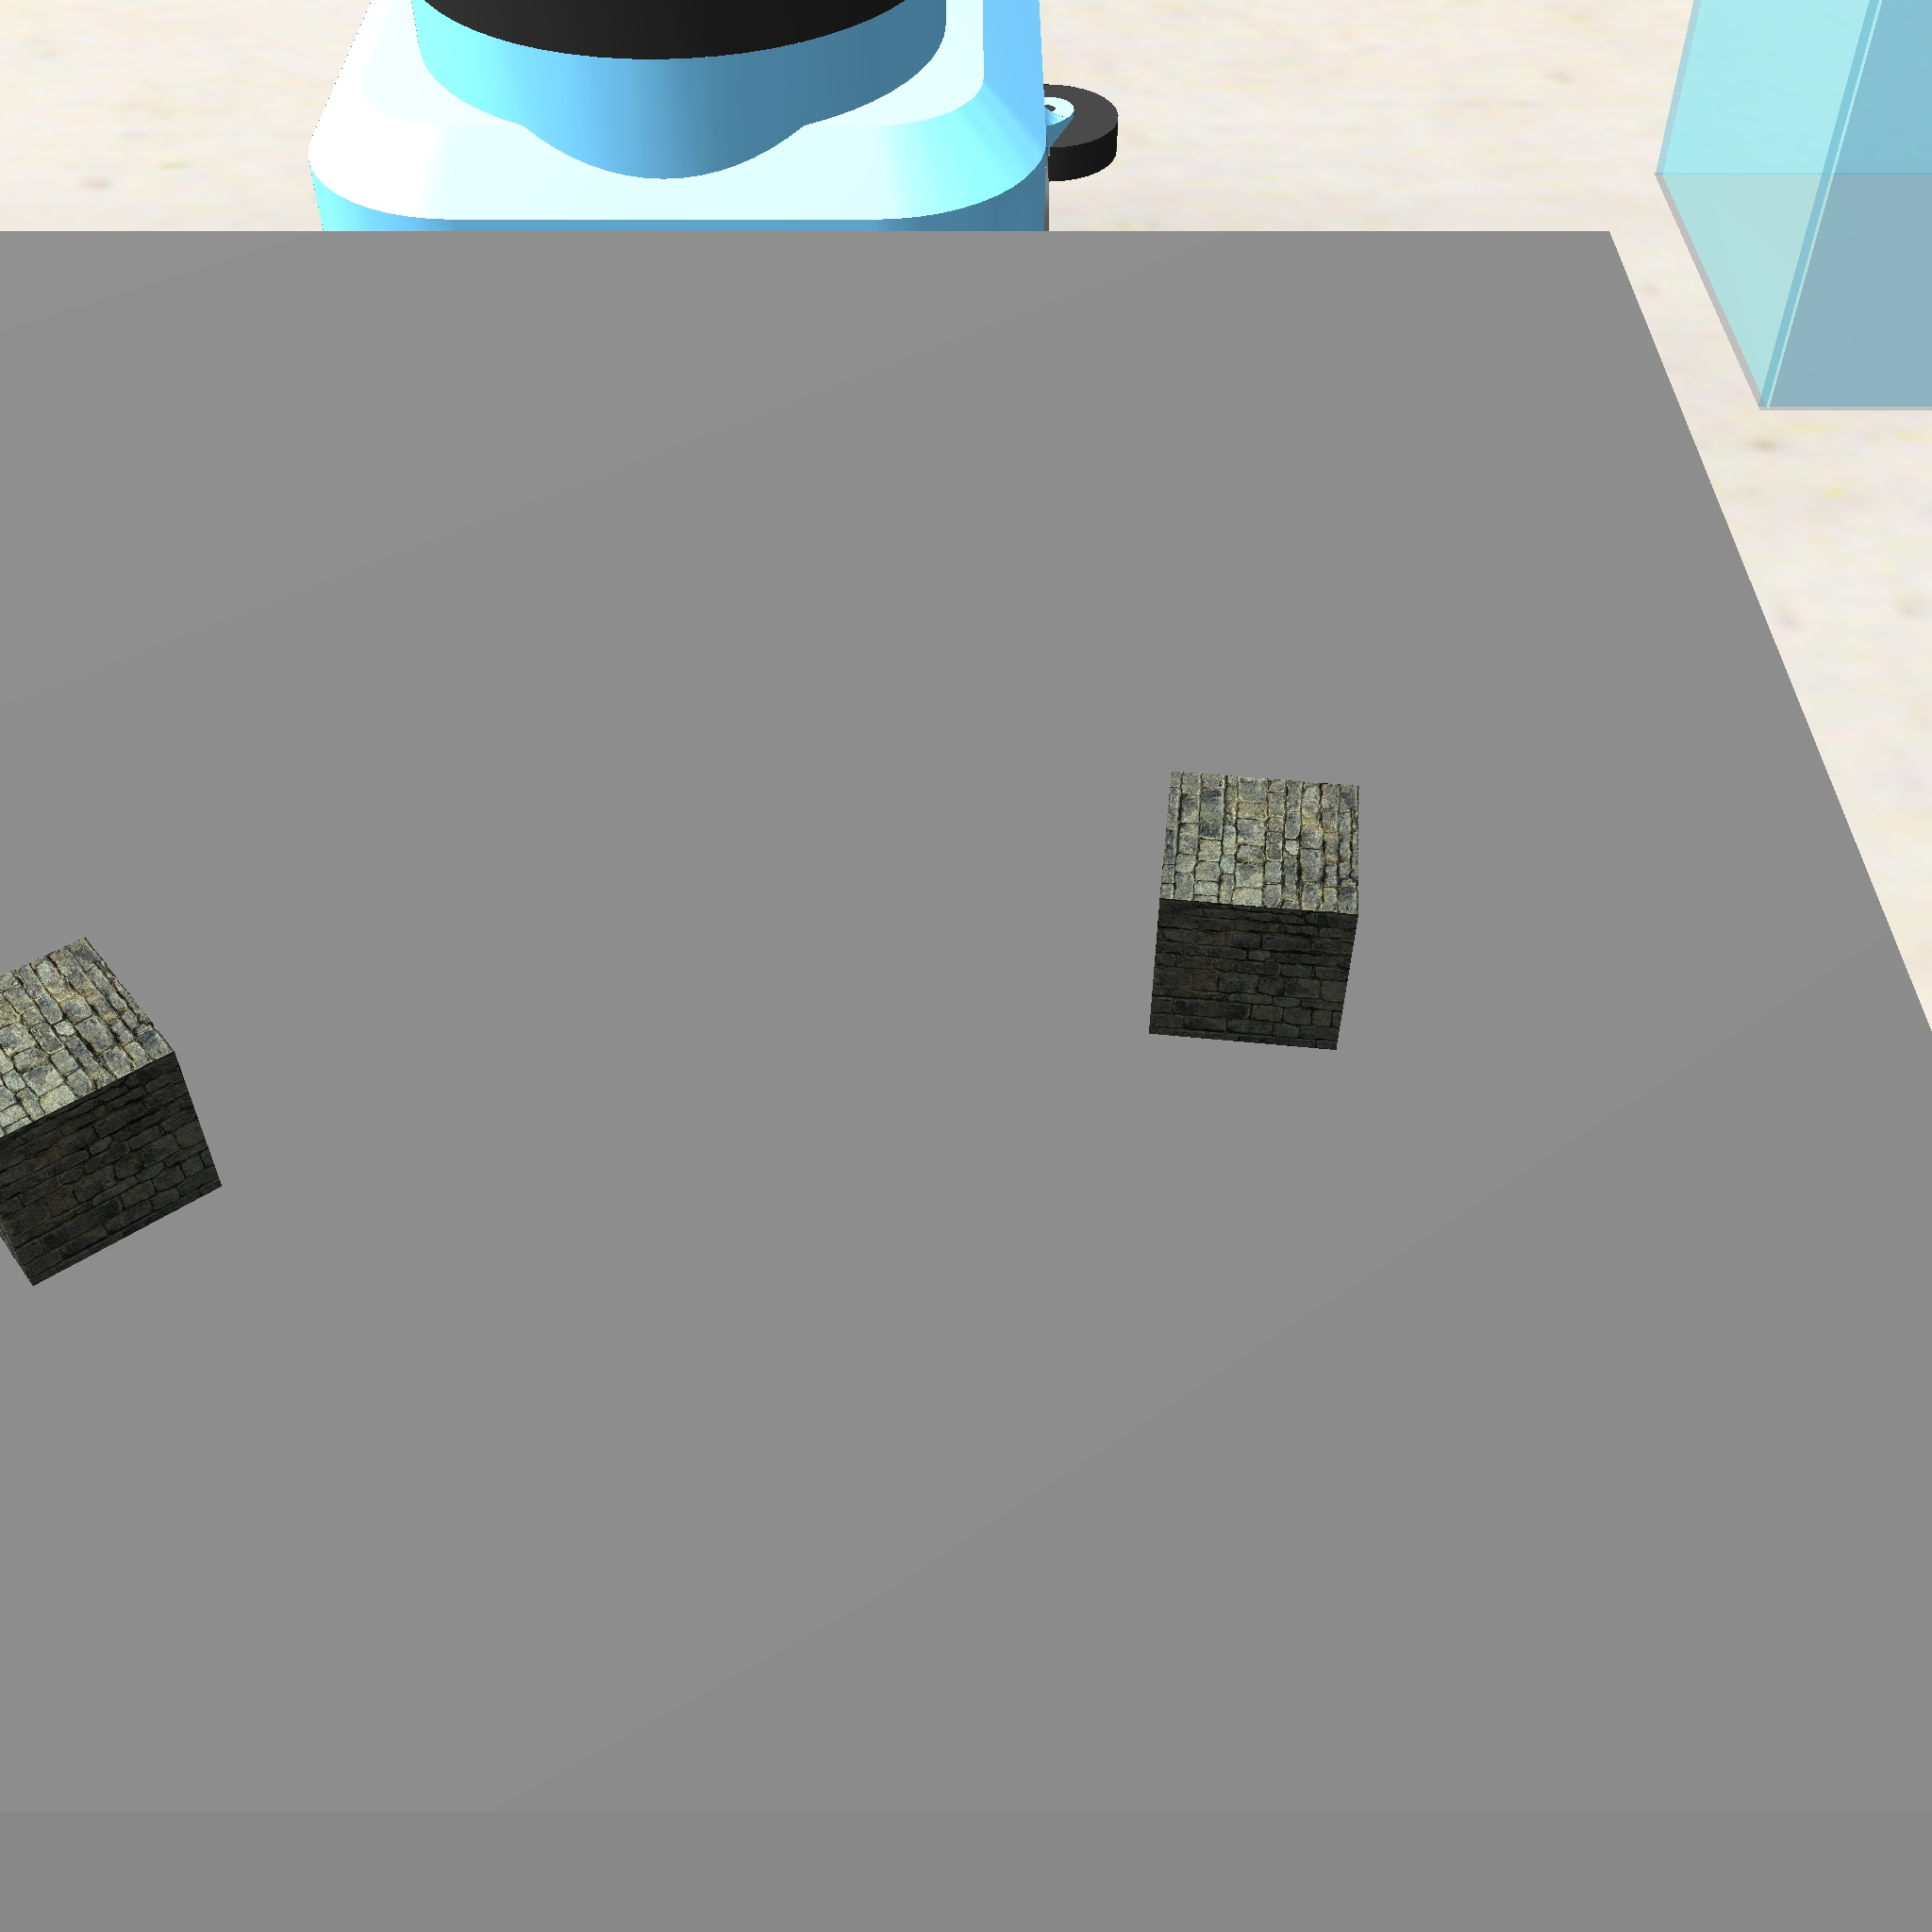cube: (0, 929, 234, 1295), (1136, 752, 1371, 1058)
